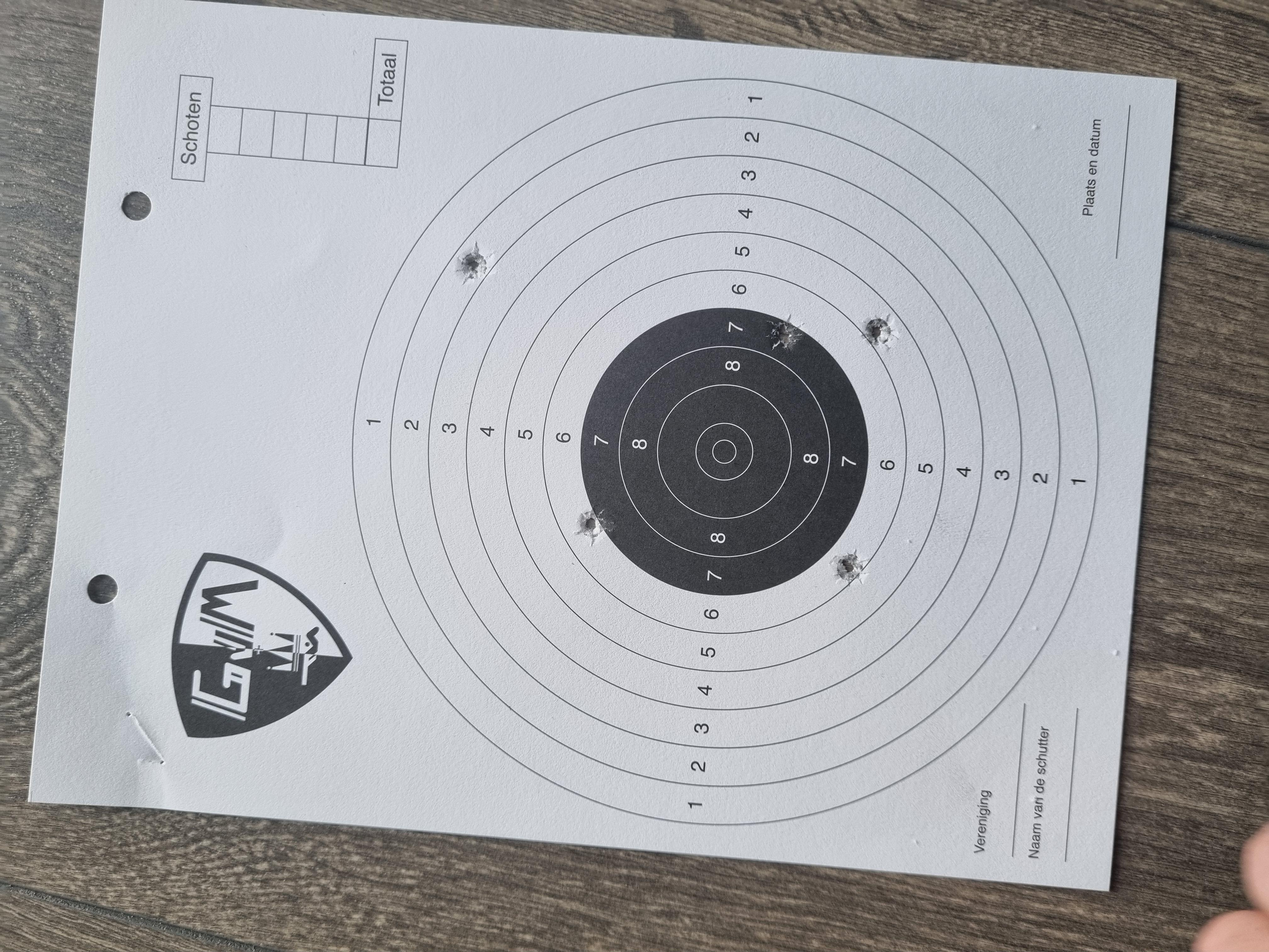hole: (894, 341, 952, 367), (490, 623, 539, 650), (803, 647, 852, 674), (800, 580, 847, 604), (548, 433, 590, 456)
